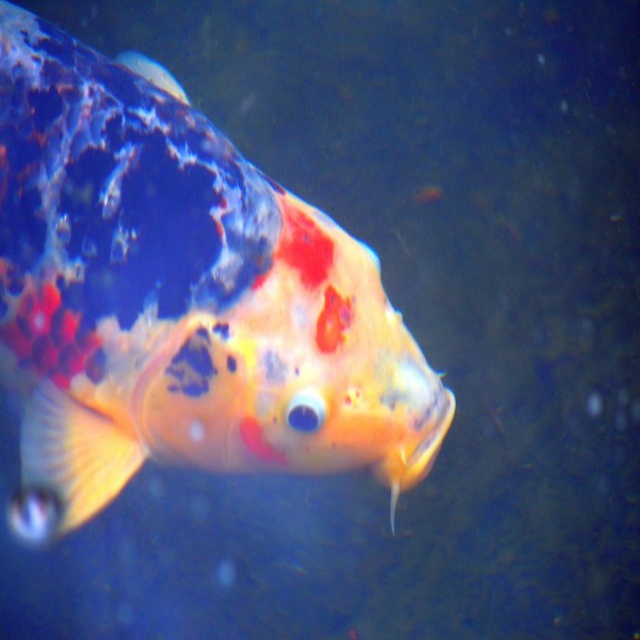Fish: (0, 2, 454, 535)
